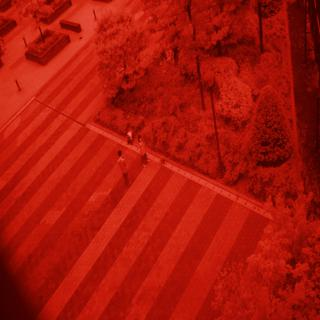person: (110, 142, 136, 188), (136, 133, 155, 176)
